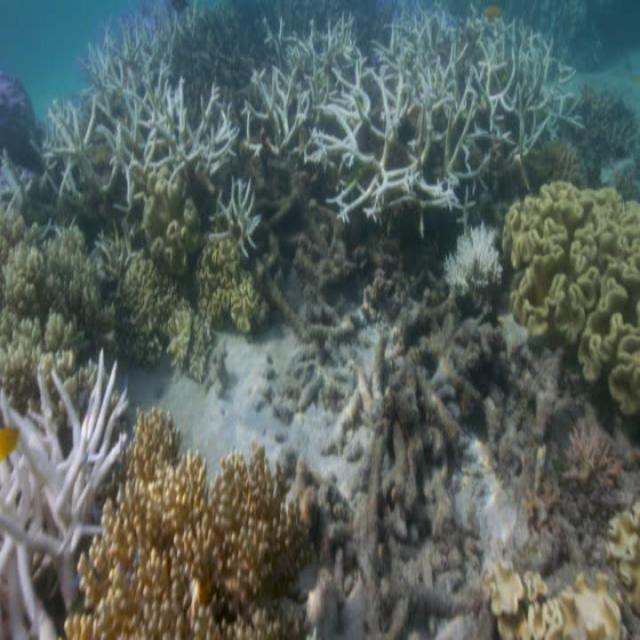Bleached Coral: (127, 71, 584, 190), (6, 350, 124, 632), (432, 214, 512, 311)
Healthy Coral: (9, 223, 279, 337), (147, 454, 304, 628)
